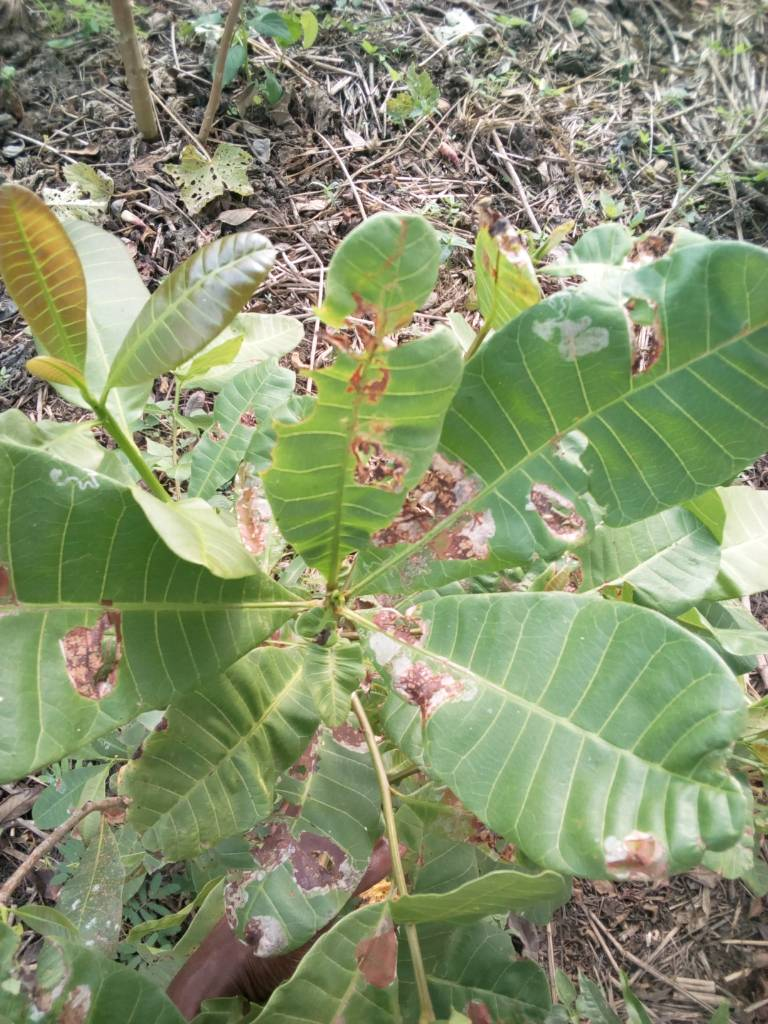Dysdercus wolkerii: (211, 703, 418, 966)
